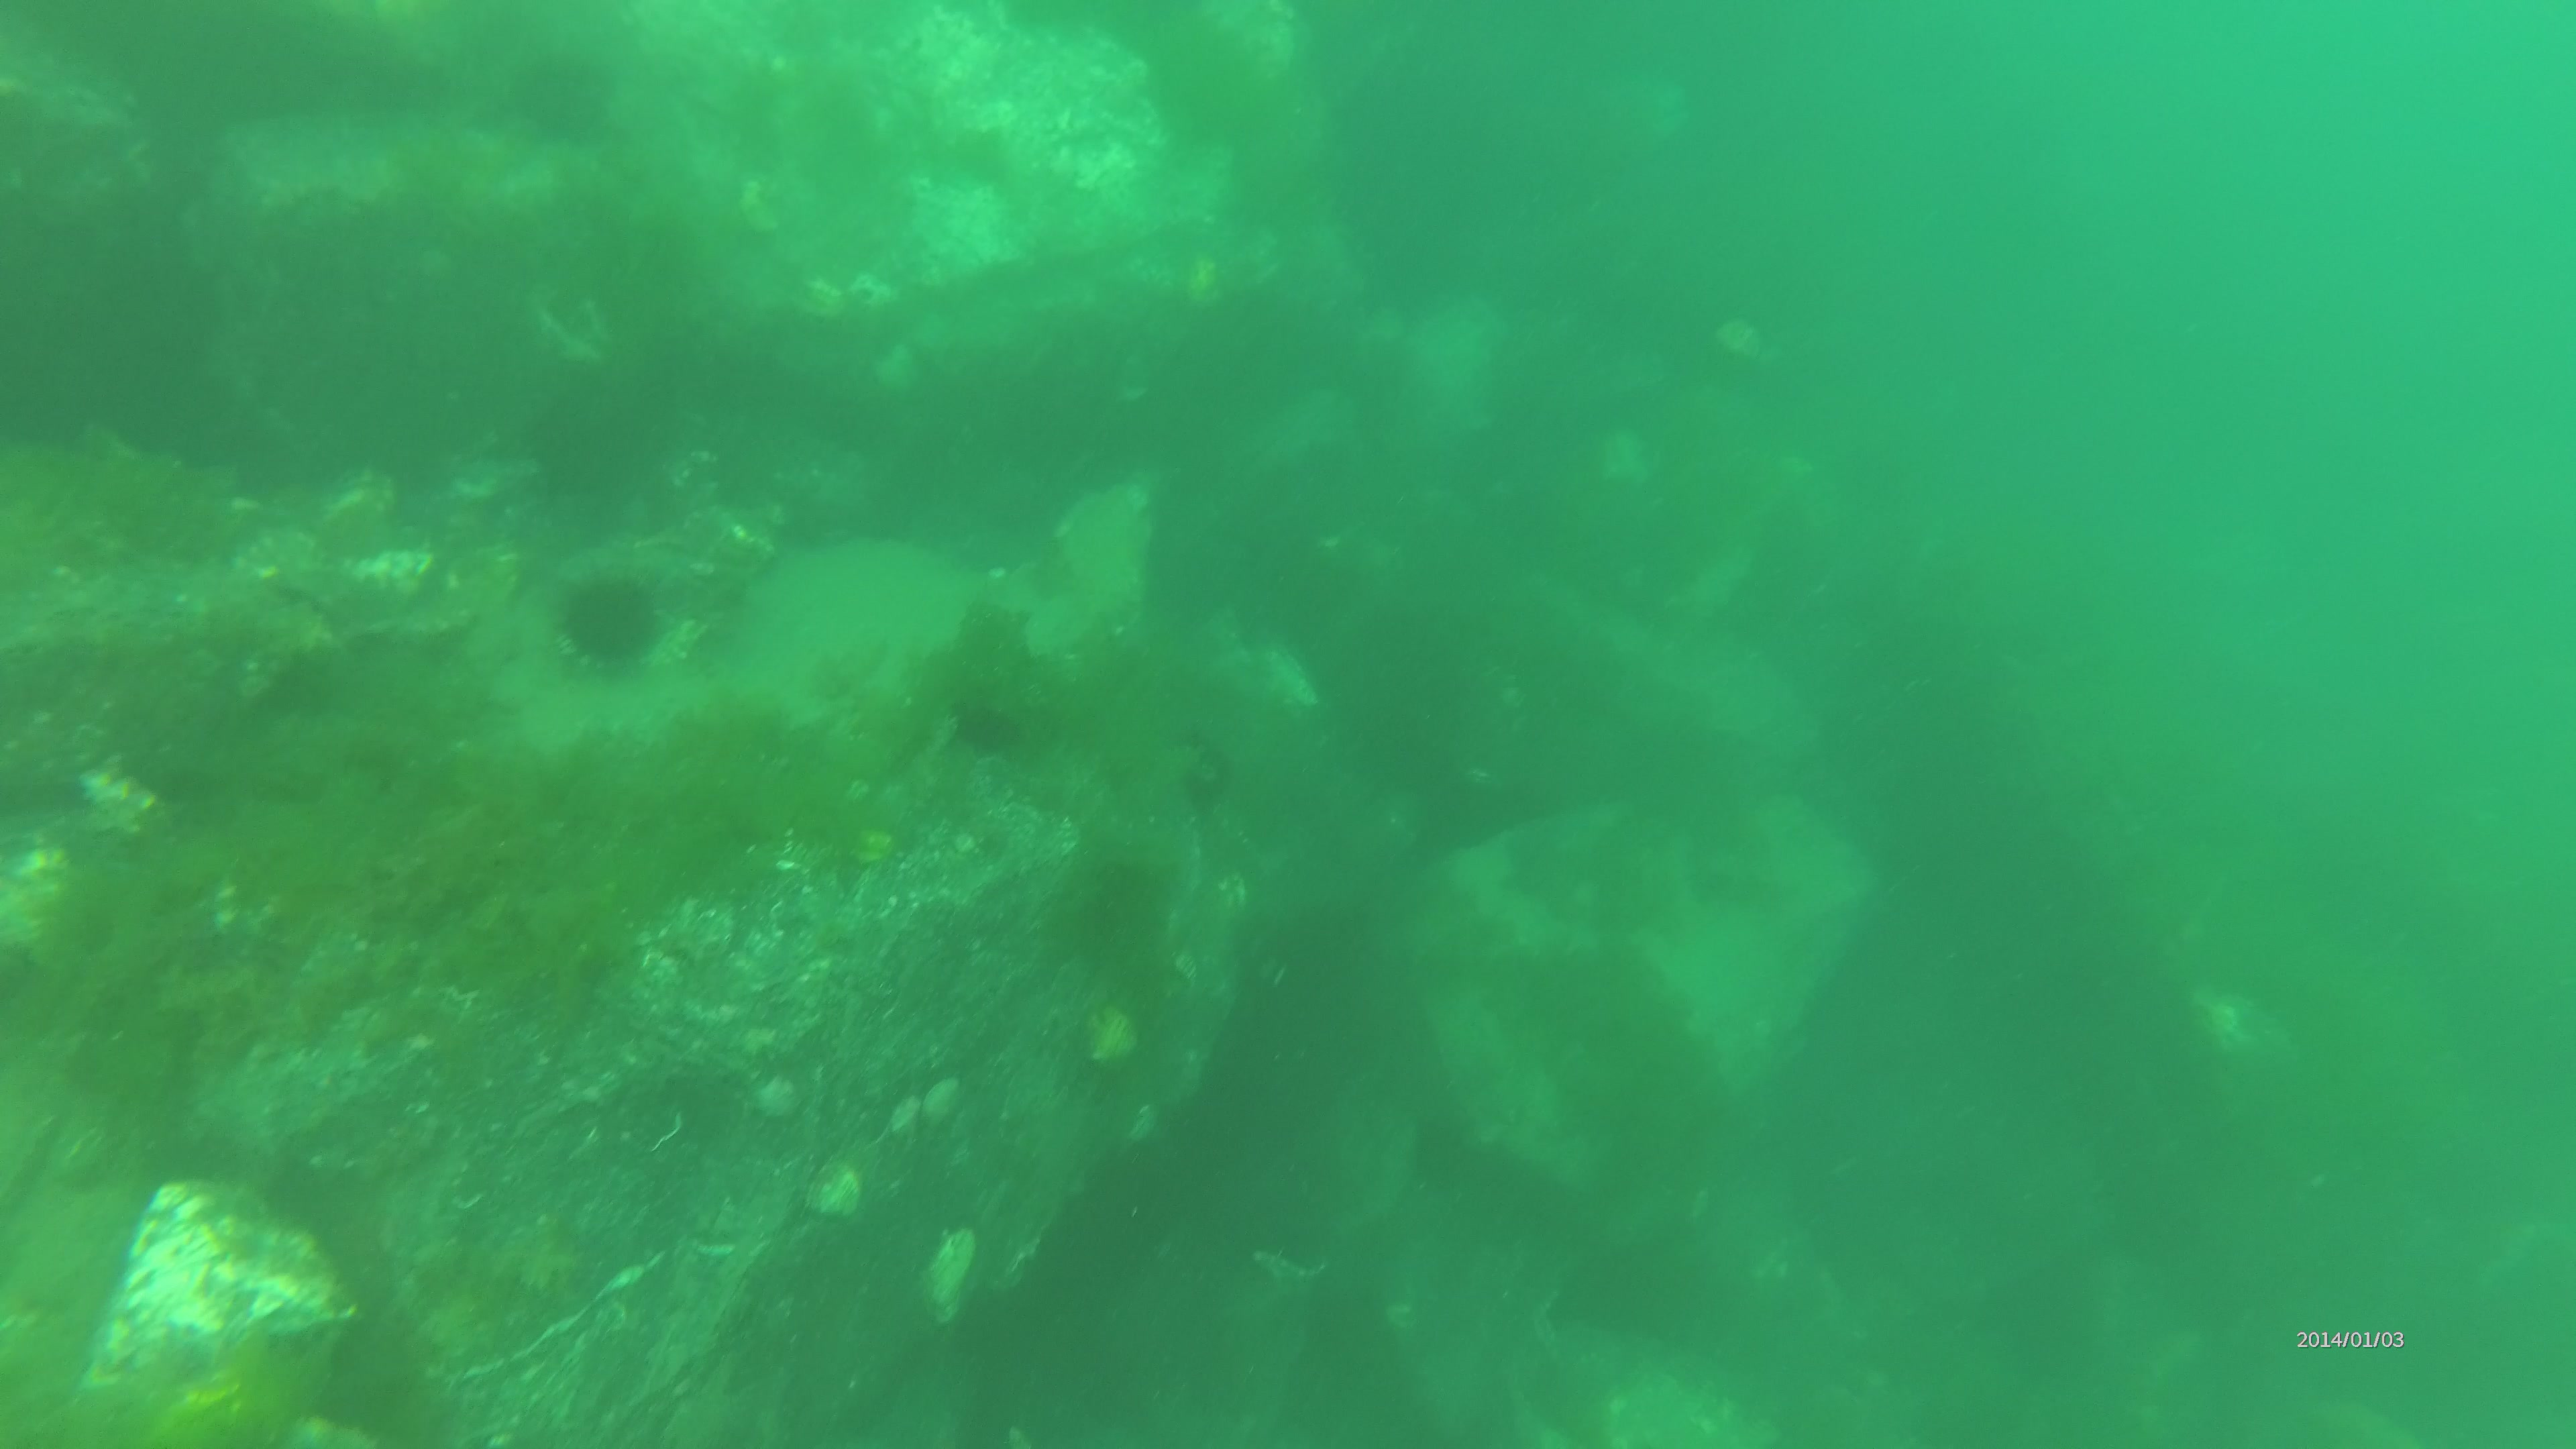echinus: (552, 566, 672, 672)
